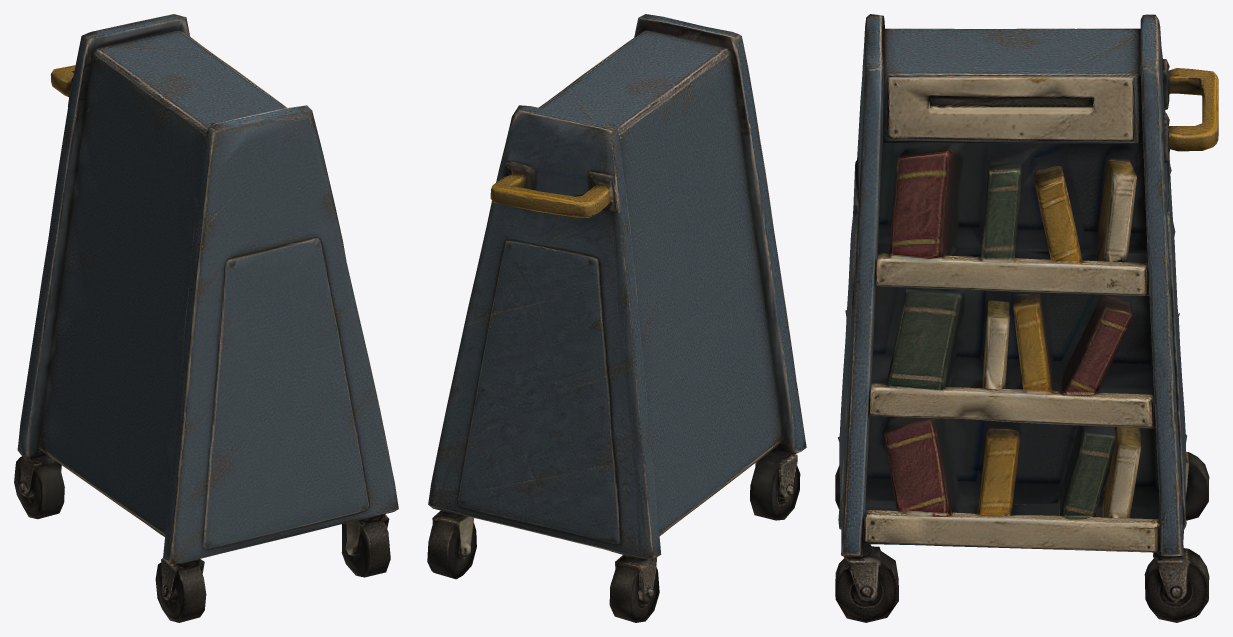
File: LibraryReturnCart.fbx
3 views of the same model, side by side, from view 1: azimuth 30°, elevation 25°; view 2: azimuth 150°, elevation 25°; view 3: azimuth 270°, elevation 25° (orthographic). The views are drawn at different scales.
Visible parts, largest first — view 1: tripo_node_7dc0da1b-50c8-47ba-ab24-4dacaaf532ec; view 2: tripo_node_7dc0da1b-50c8-47ba-ab24-4dacaaf532ec; view 3: tripo_node_7dc0da1b-50c8-47ba-ab24-4dacaaf532ec.
Boxes of the visible parts, x1=… form: tripo_node_7dc0da1b-50c8-47ba-ab24-4dacaaf532ec: x1=14, y1=14, x2=398, y2=622; tripo_node_7dc0da1b-50c8-47ba-ab24-4dacaaf532ec: x1=427, y1=14, x2=806, y2=622; tripo_node_7dc0da1b-50c8-47ba-ab24-4dacaaf532ec: x1=835, y1=14, x2=1218, y2=622.
Size of the model in its own units: 49.84 by 100 by 66.19.
Materials: 1 (1 with a texture image).
